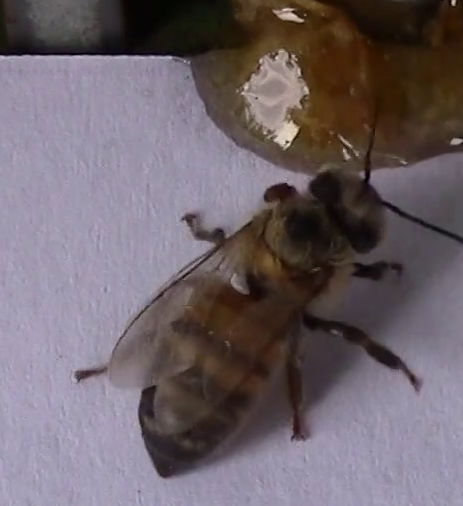Varroa destructor: (263, 179, 303, 211)
